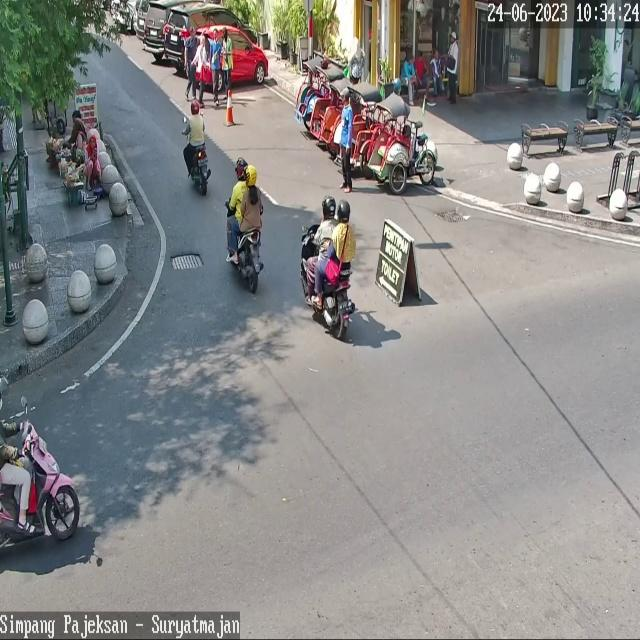bus: (0, 420, 80, 548), (300, 223, 358, 340), (238, 226, 266, 292), (190, 146, 212, 194)
motorcycle: (163, 3, 257, 63), (194, 25, 268, 92), (144, 0, 170, 52)
